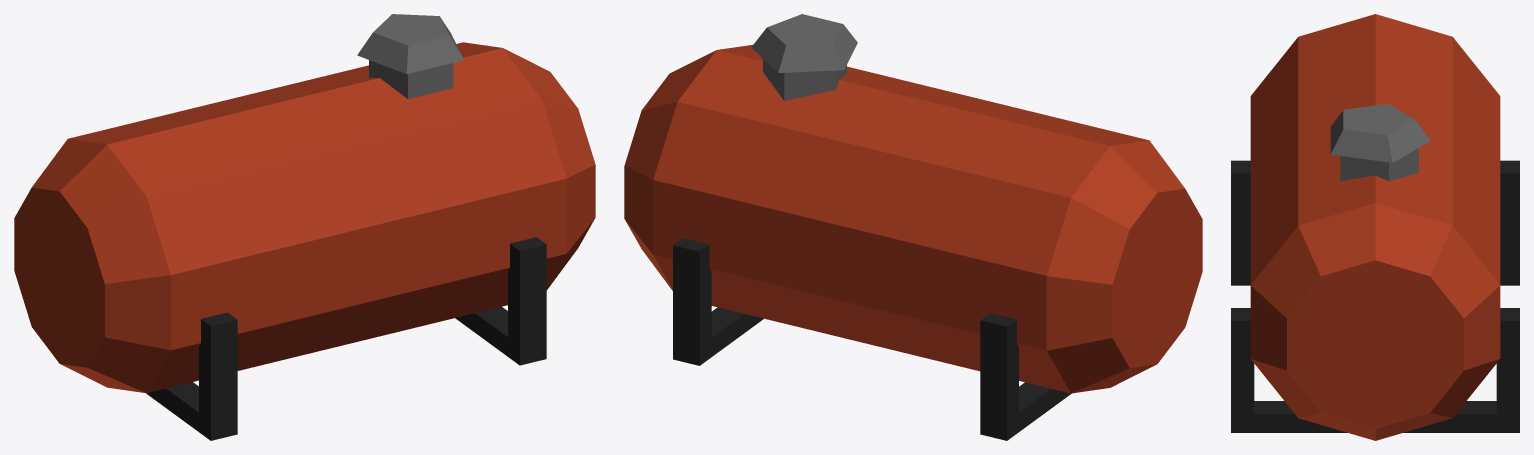
Rendered from GasTank.glb.
The picture shows the model from 3 angles, left to right: view 1: azimuth 30°, elevation 25°; view 2: azimuth 150°, elevation 25°; view 3: azimuth 270°, elevation 25°; orthographic projection. The views are drawn at different scales.
Parts seen in each view (by area): view 1: GasTank; view 2: GasTank; view 3: GasTank.
Boxes of the visible parts, bbox=[...] form: GasTank: bbox=[14, 14, 595, 440]; GasTank: bbox=[624, 14, 1202, 440]; GasTank: bbox=[1231, 14, 1519, 440].
Bounding box in the file's own units: 11.96 × 6.78 × 6.23.
